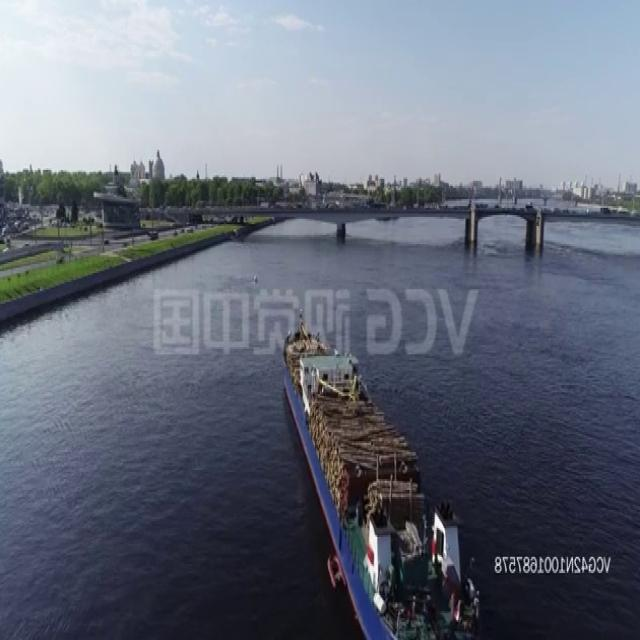cargoship: (280, 311, 483, 640)
